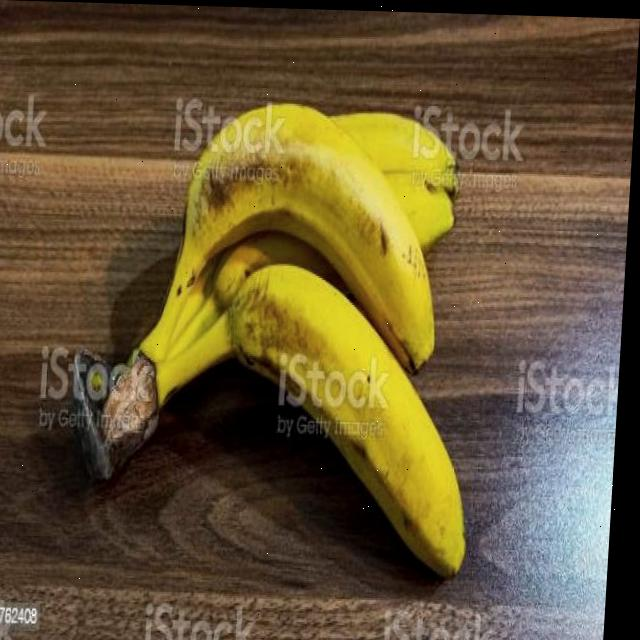banana: (53, 86, 497, 584)
